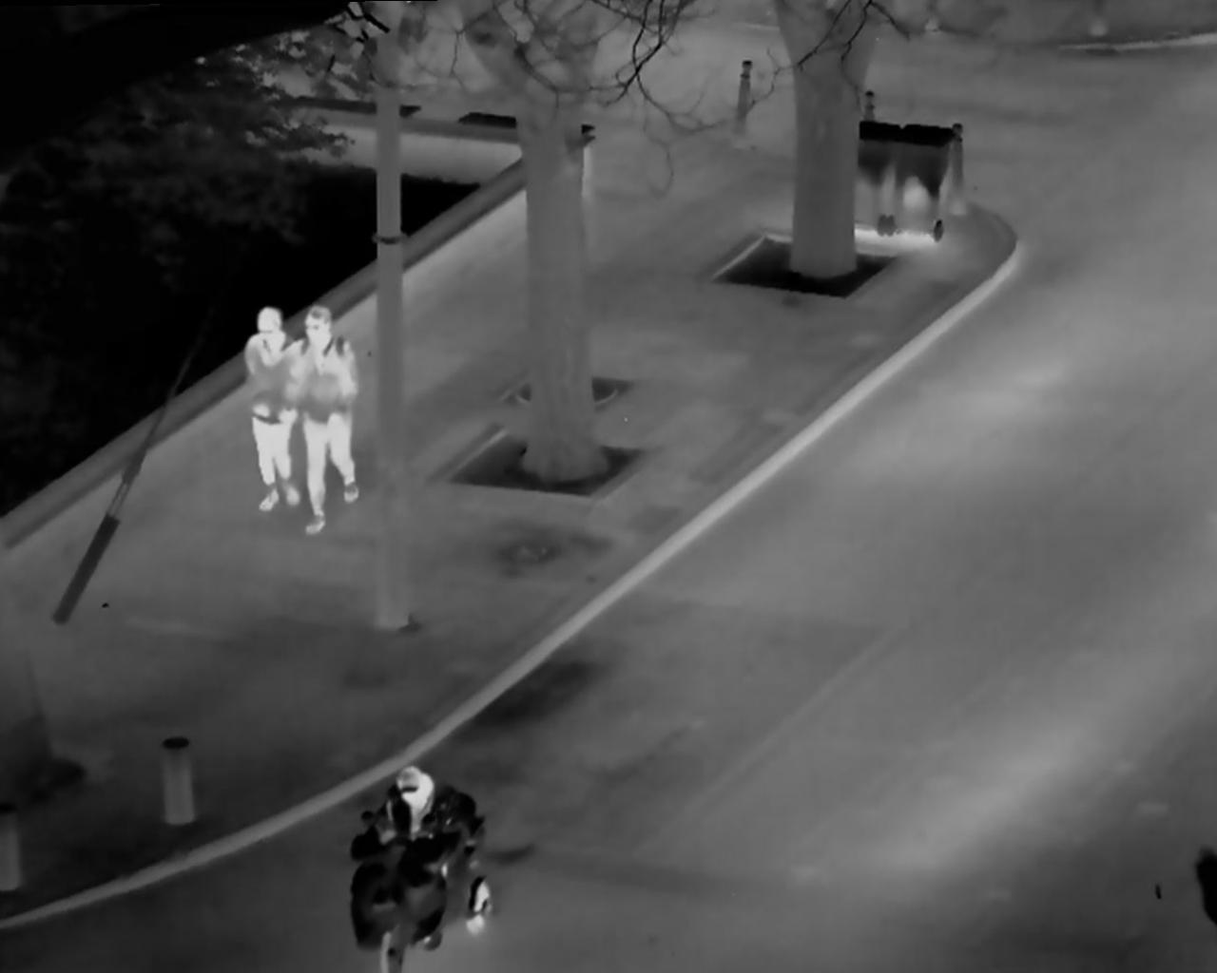person: (359, 759, 475, 937), (285, 290, 361, 542), (239, 299, 300, 517)
